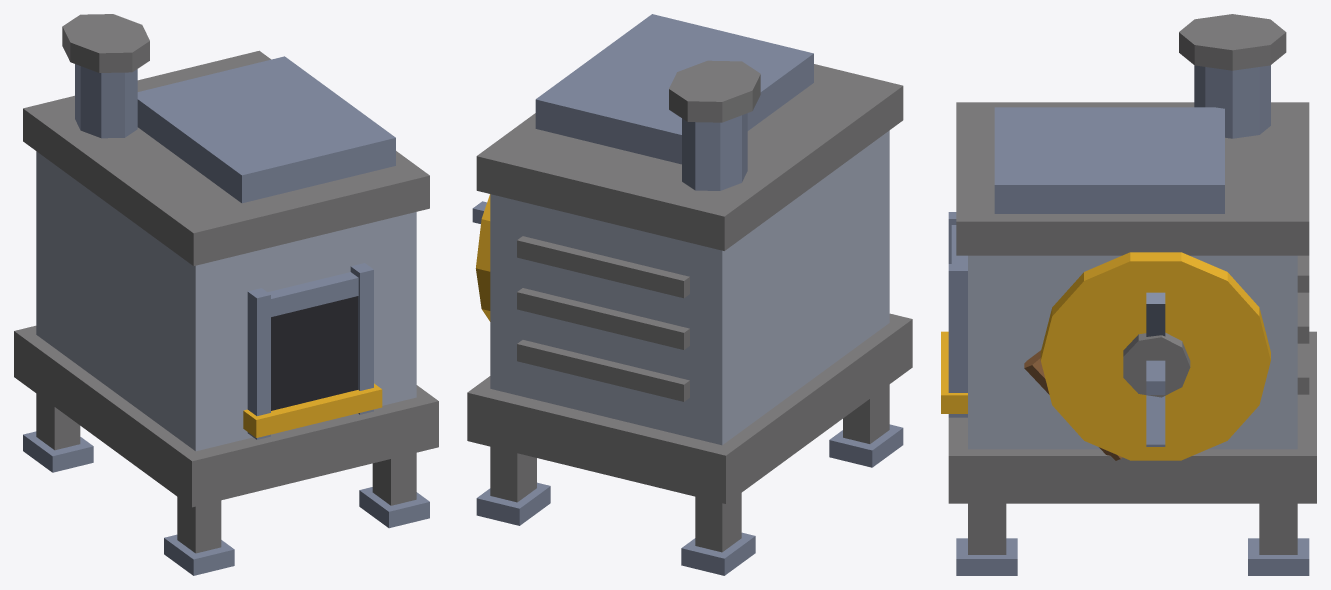
The model's file is machine_slow.glb.
3 views of the same model, side by side, from view 1: azimuth 30°, elevation 25°; view 2: azimuth 150°, elevation 25°; view 3: azimuth 270°, elevation 25° (orthographic). The views are drawn at different scales.
Parts seen in each view (by area): view 1: machine_slow; view 2: machine_slow; view 3: machine_slow.
Part boxes in pixels (<box>): machine_slow: <box>14,14,438,575</box>; machine_slow: <box>467,14,912,575</box>; machine_slow: <box>941,14,1316,575</box>.
Size of the model in its own units: 1 by 1.31 by 1.
